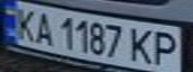1: (54, 14, 75, 50), (69, 16, 90, 52)
7: (103, 21, 127, 60)
8: (87, 19, 106, 56)
A: (30, 9, 57, 46)
K: (9, 4, 42, 43), (127, 25, 157, 65)
P: (148, 28, 184, 67)
